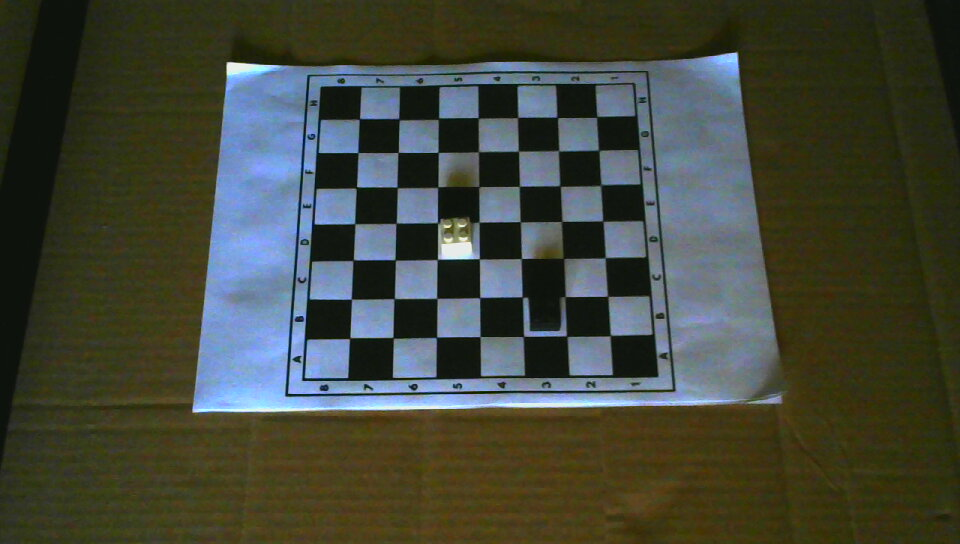bp: (528, 294, 562, 332)
wp: (439, 216, 473, 256)
